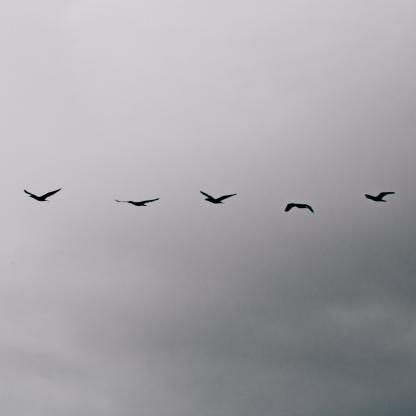bird: (22, 186, 66, 203), (200, 190, 238, 206), (114, 197, 160, 208), (360, 191, 397, 204), (284, 203, 316, 214)
